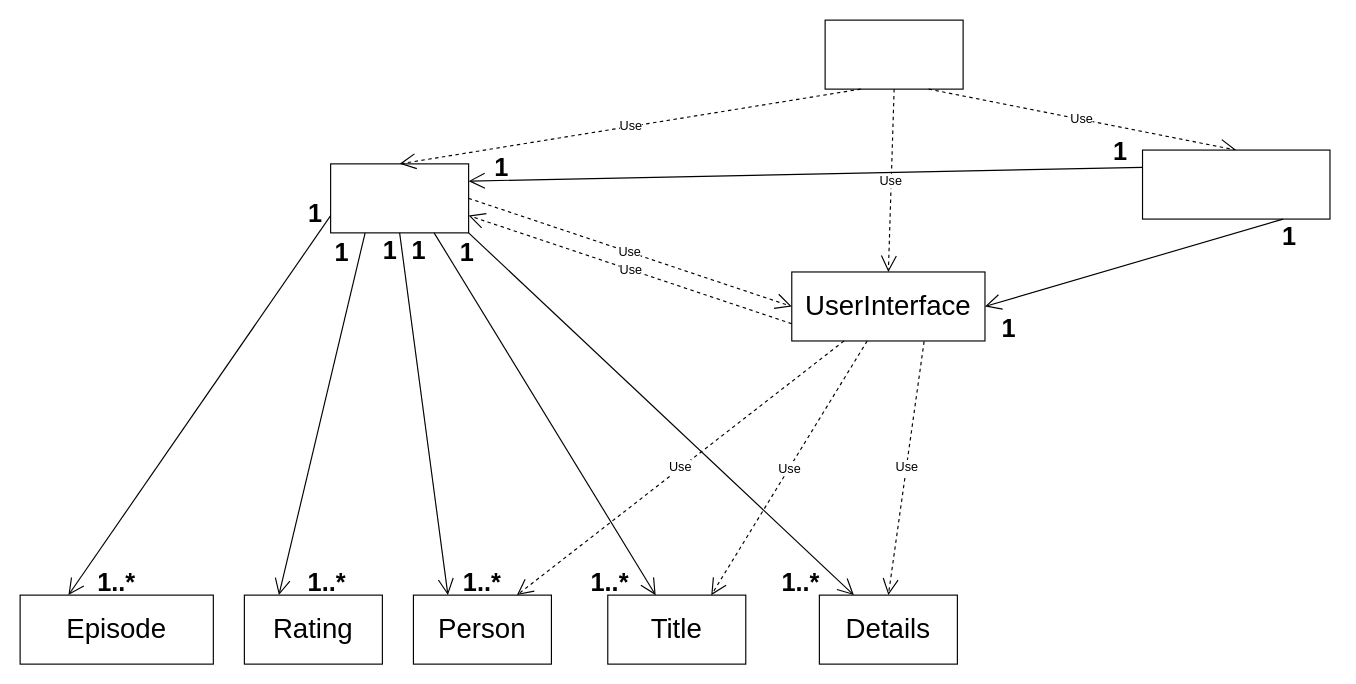
This 1356x684 diagram has some shape labels left out. Each missing label, with the centre of its shape:
"MainControl" goes at [1235,184].
"Program" goes at [893,54].
"Query" goes at [399,198].
